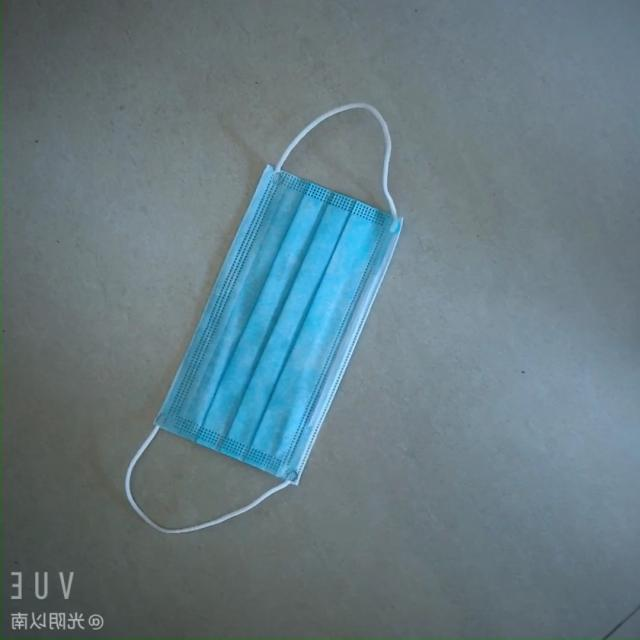face mask: (153, 147, 410, 498)
